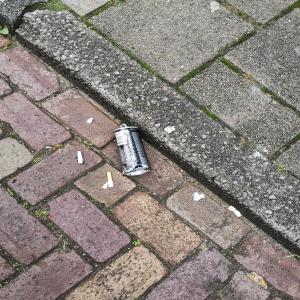Can: (109, 122, 156, 180)
